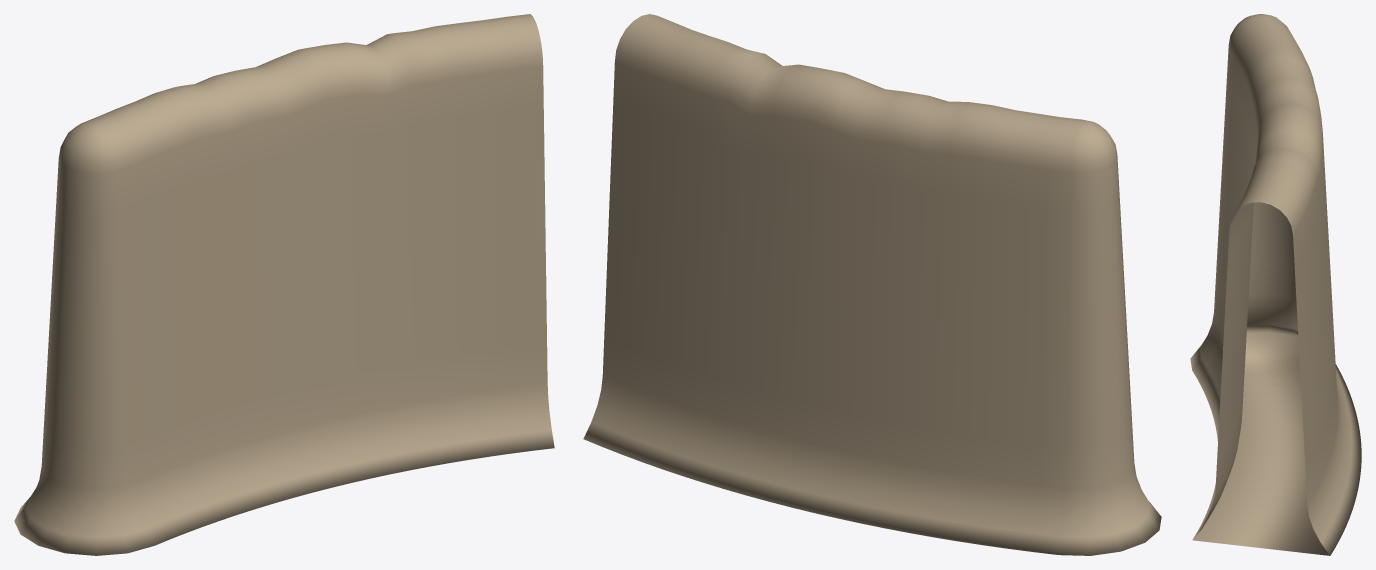
File: KFB_Wall_curved_ring_r2_capB.r1.glb
The picture shows the model from 3 angles, left to right: view 1: azimuth 30°, elevation 25°; view 2: azimuth 150°, elevation 25°; view 3: azimuth 270°, elevation 25°; orthographic projection. The views are drawn at different scales.
Visible parts, largest first — view 1: KFB_Wall_curved_ring_r2_capB; view 2: KFB_Wall_curved_ring_r2_capB; view 3: KFB_Wall_curved_ring_r2_capB.
Part boxes in pixels (x1,y1,x2,y2): KFB_Wall_curved_ring_r2_capB: [14, 14, 554, 555]; KFB_Wall_curved_ring_r2_capB: [583, 14, 1161, 555]; KFB_Wall_curved_ring_r2_capB: [1190, 14, 1361, 555].
Bounding box in the file's own units: 4.99 × 3.64 × 1.62.
